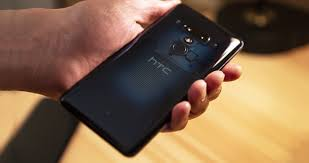htc: (61, 2, 248, 159)
